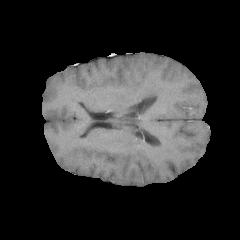glioma: (122, 74, 167, 111)
